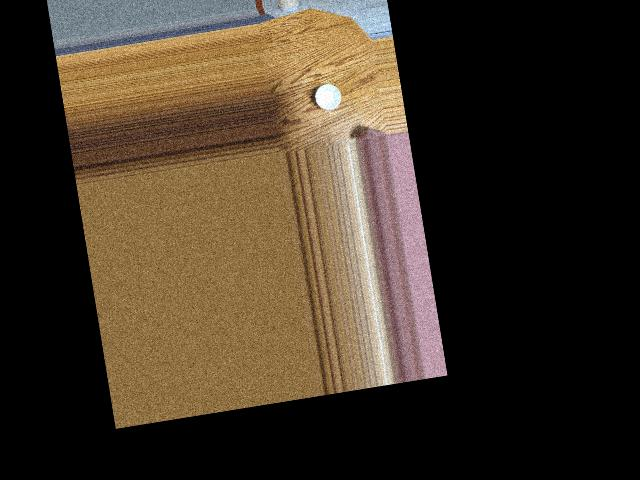cotage: (314, 81, 346, 115)
